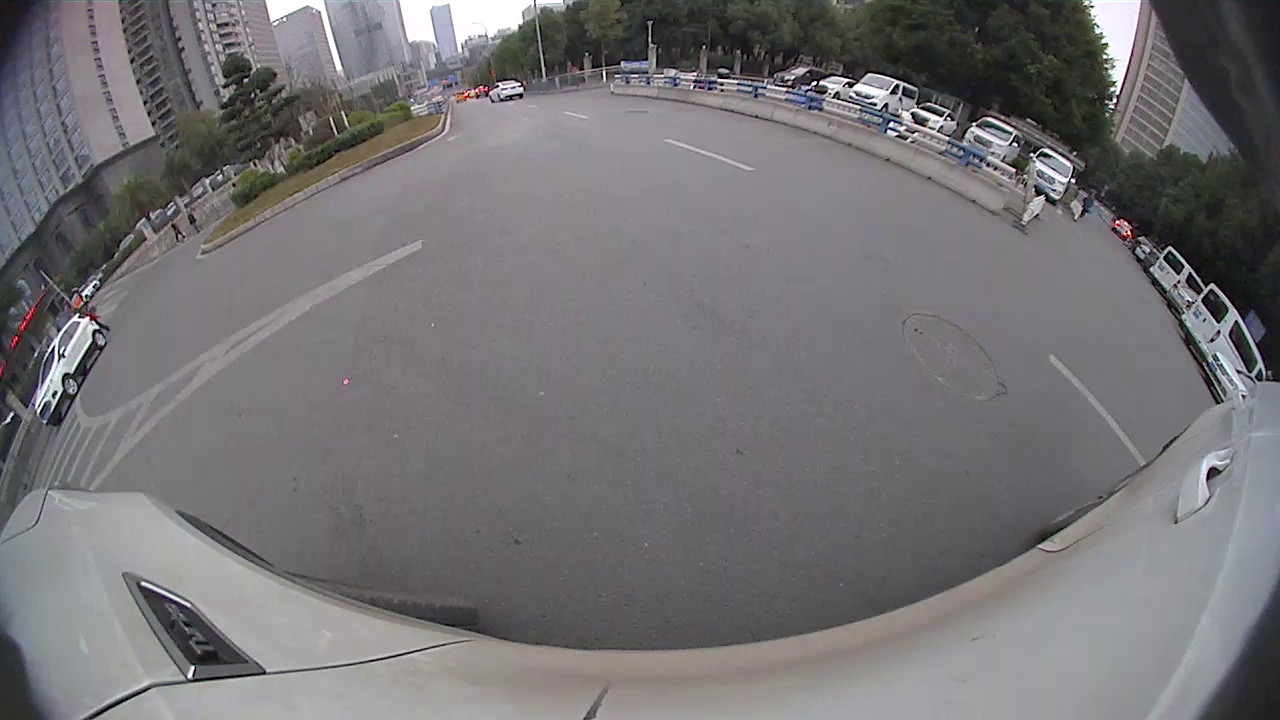car: (36, 311, 107, 429), (1179, 282, 1262, 380), (1201, 349, 1267, 410), (959, 114, 1028, 167), (1021, 144, 1078, 206), (846, 72, 919, 118), (1146, 242, 1206, 297), (905, 102, 960, 137)
front: (61, 374, 80, 396)
rear: (92, 330, 109, 350)
